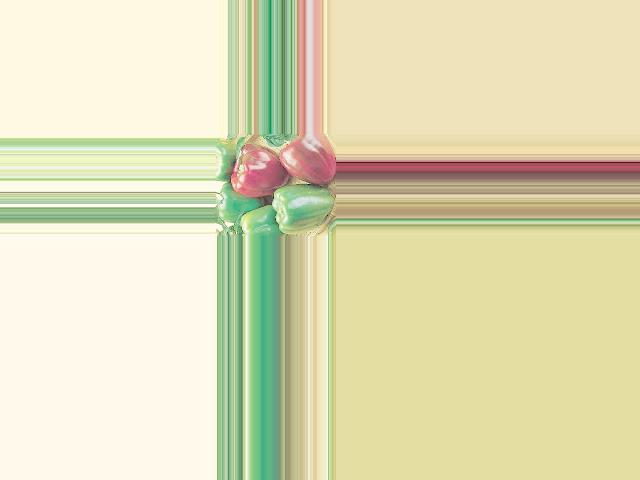bell_pepper: (279, 136, 336, 181)
